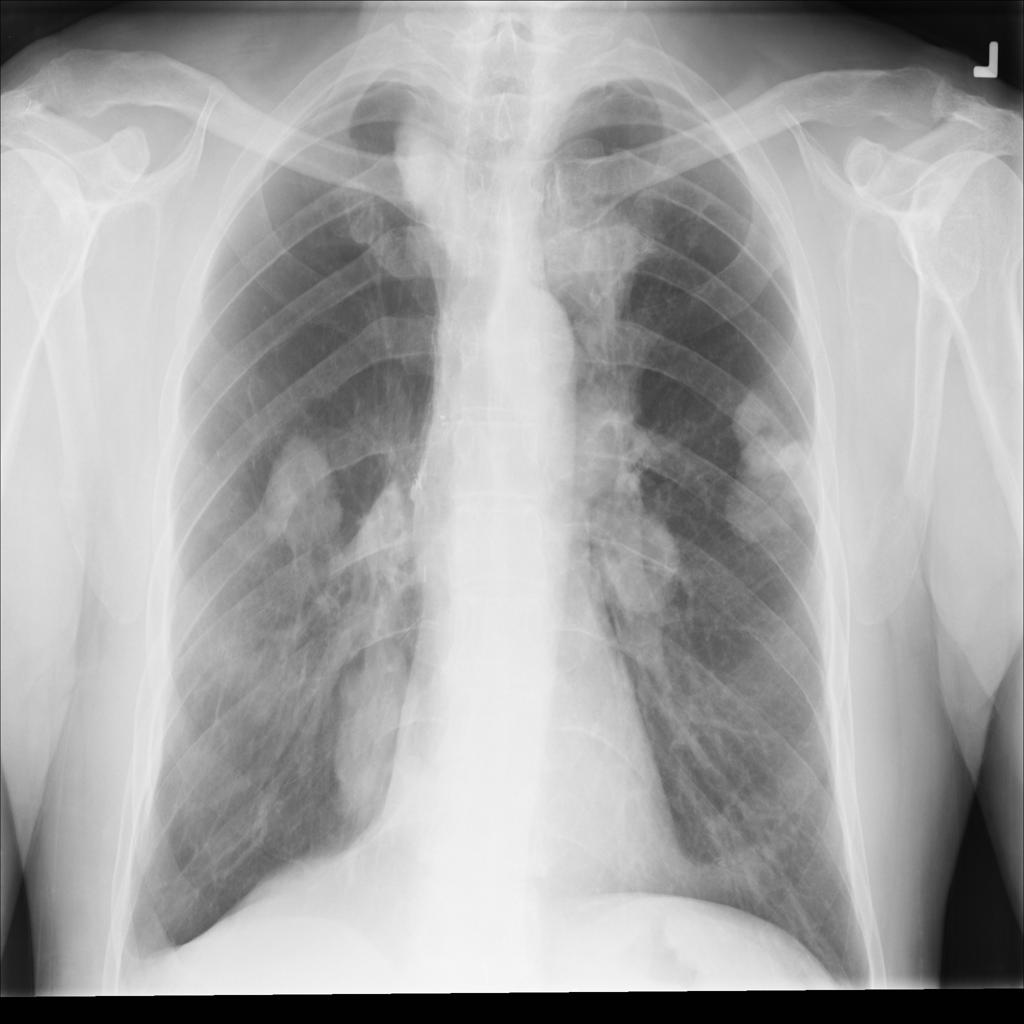nodule: (330, 621, 427, 811), (586, 486, 691, 633), (247, 425, 352, 570), (717, 365, 821, 496), (714, 447, 817, 555)
